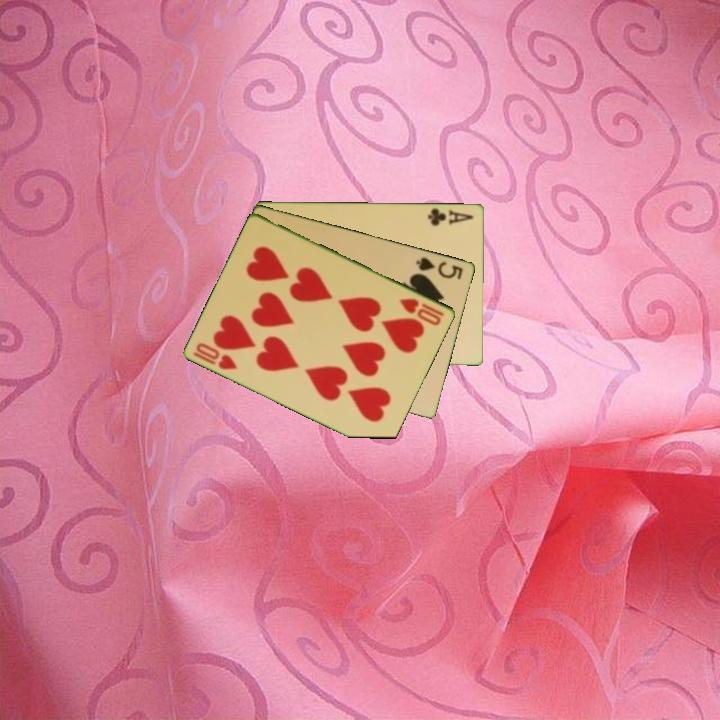10h: (396, 294, 447, 328), (190, 339, 241, 372)
5s: (413, 253, 466, 282)
Ac: (425, 205, 477, 228)
